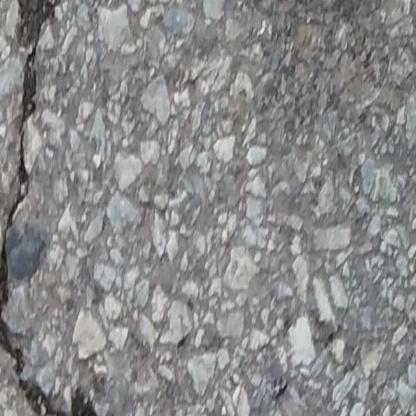Cracks: (0, 0, 108, 416)
